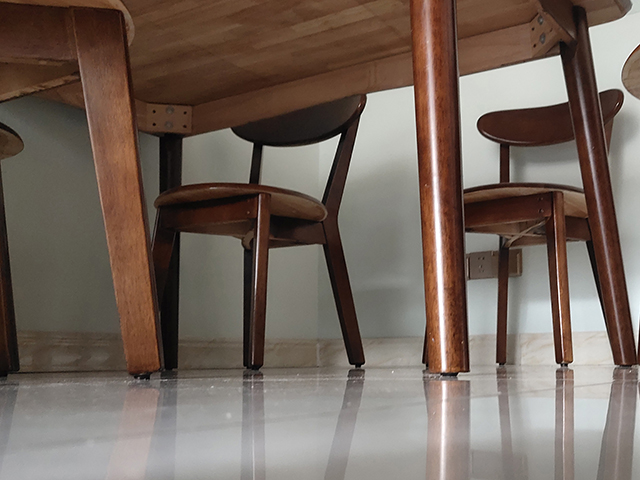stool: (1, 1, 168, 380), (149, 91, 370, 375), (417, 88, 628, 370)
table: (1, 1, 637, 378)
